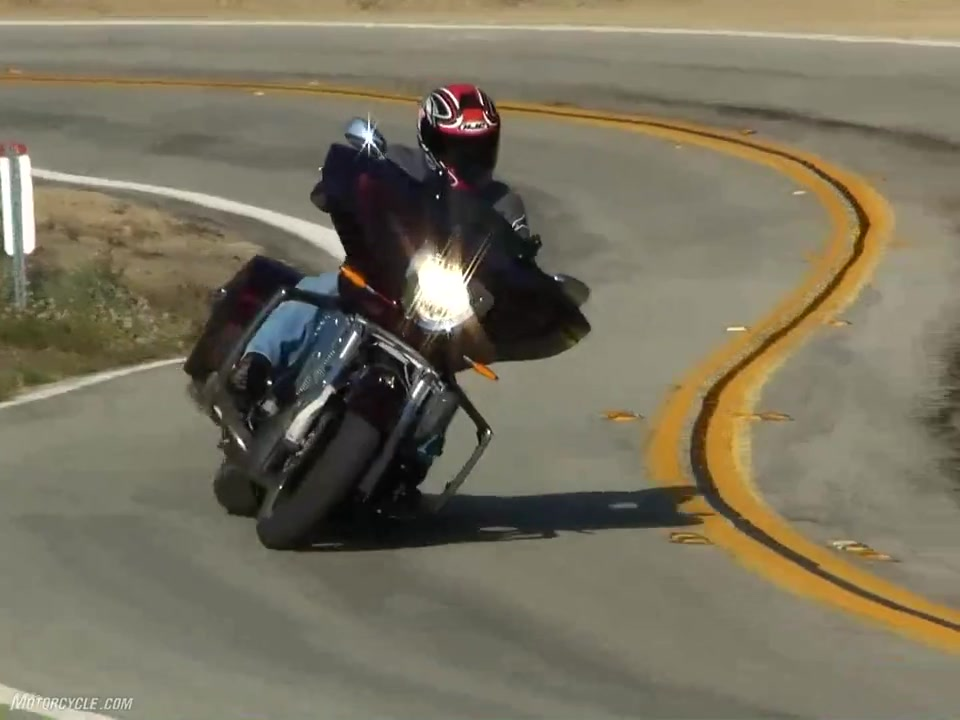motorbike: (182, 117, 594, 557)
